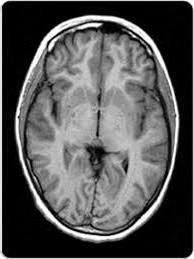Normal_Brain: (11, 12, 192, 259)
